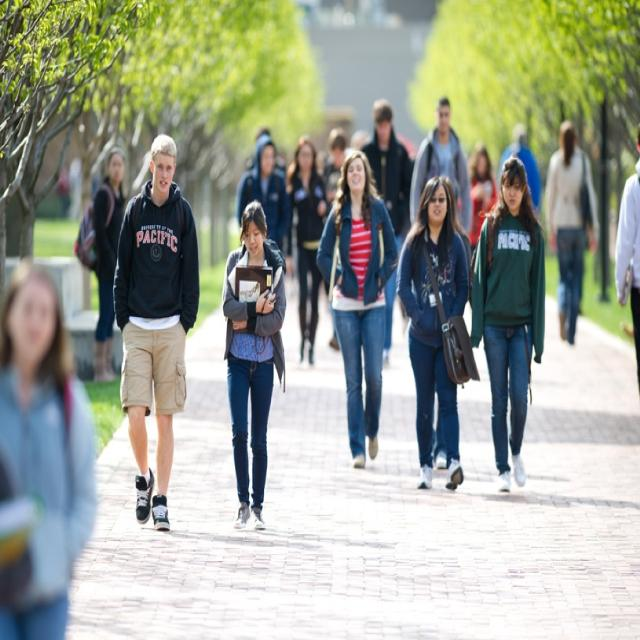body: (0, 250, 100, 639), (108, 130, 201, 538), (393, 170, 483, 497), (312, 144, 400, 475), (466, 150, 547, 501), (218, 195, 289, 538), (309, 119, 381, 365), (358, 96, 415, 372), (540, 114, 604, 350), (71, 142, 128, 386), (283, 132, 331, 368), (408, 93, 477, 237), (613, 125, 640, 394), (236, 133, 290, 256), (496, 122, 544, 215), (238, 117, 290, 198), (468, 146, 498, 259)
